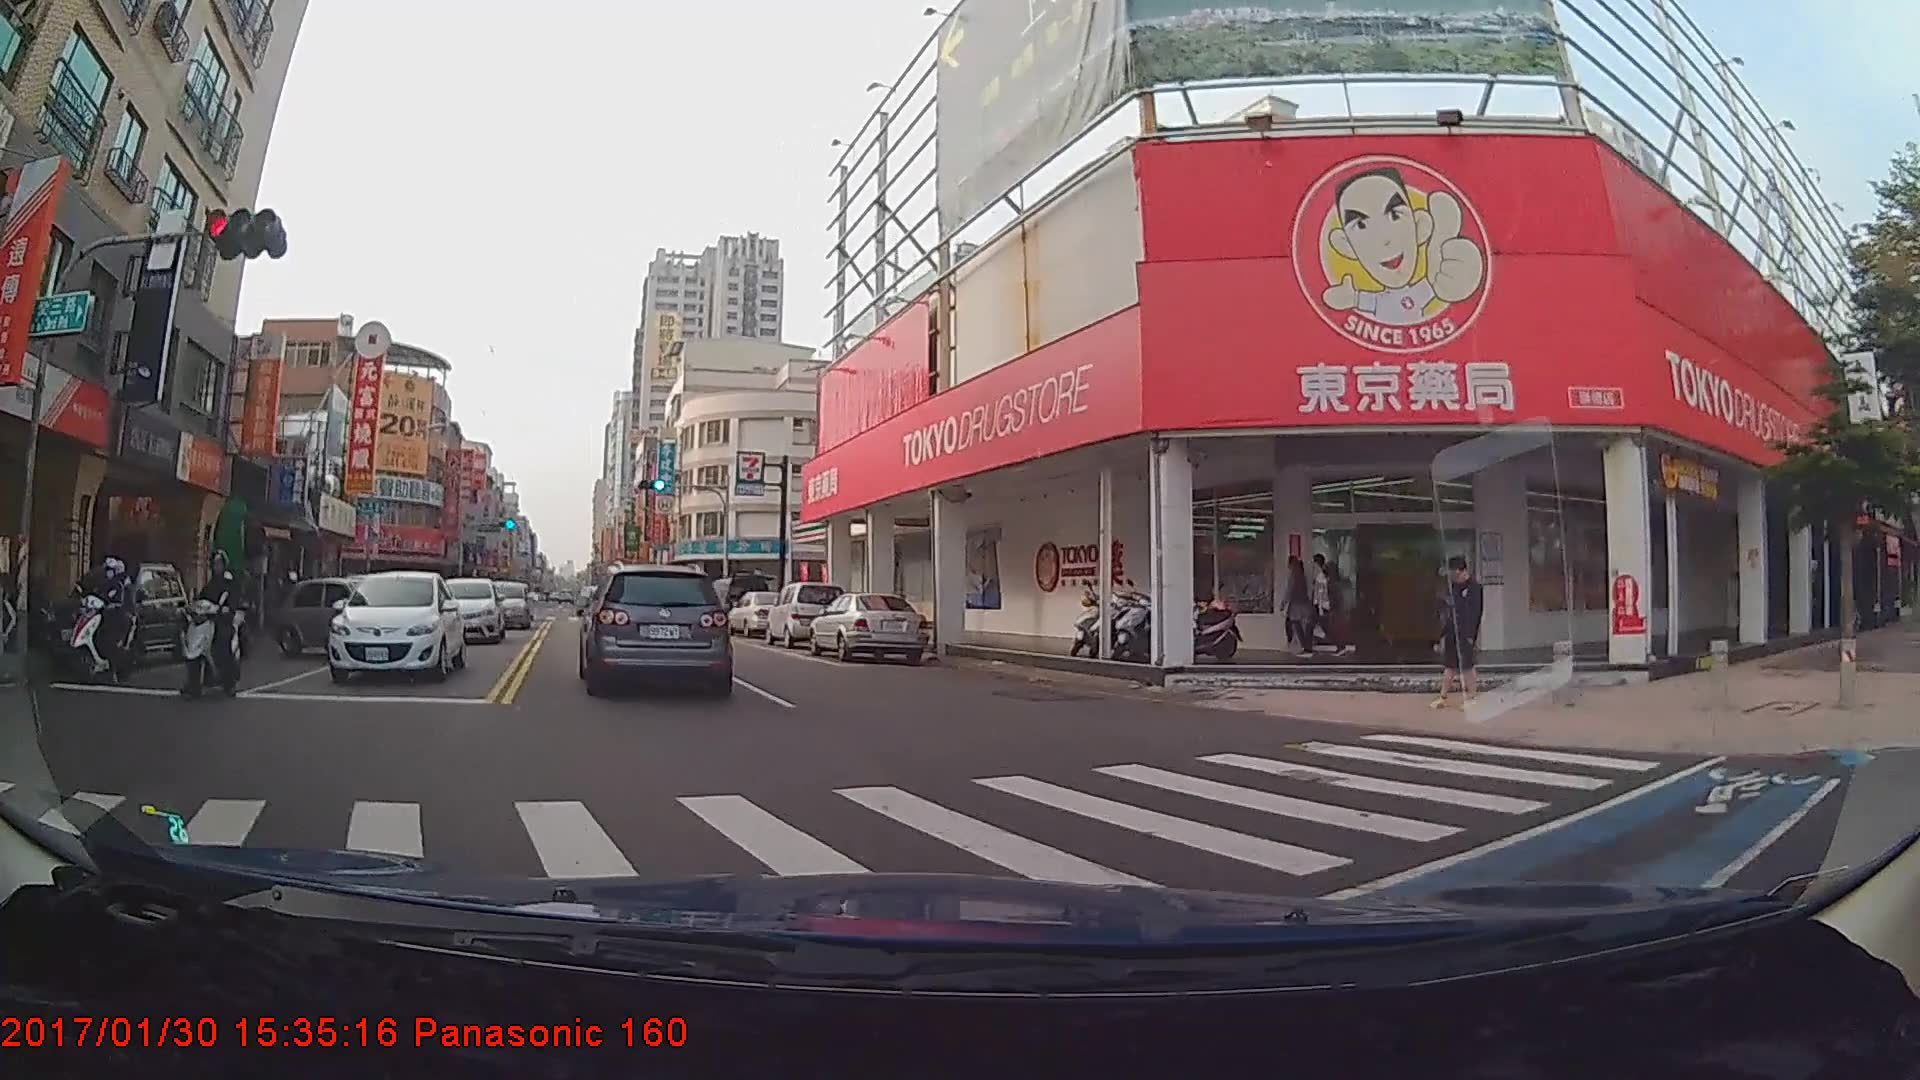pedestrian: (1438, 553, 1491, 713), (1280, 551, 1322, 658), (1308, 555, 1338, 656)
rider: (57, 557, 157, 684), (176, 551, 252, 706)
vehicle: (585, 566, 728, 697), (44, 559, 192, 670), (327, 569, 465, 683), (273, 573, 409, 658), (808, 591, 929, 665), (769, 583, 846, 649), (431, 577, 506, 645), (723, 589, 802, 636), (482, 580, 532, 630)
